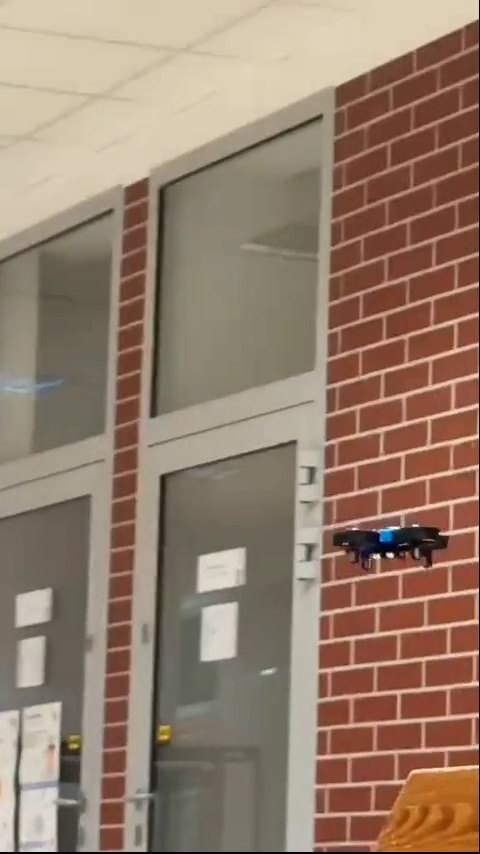drone: (331, 523, 448, 574)
